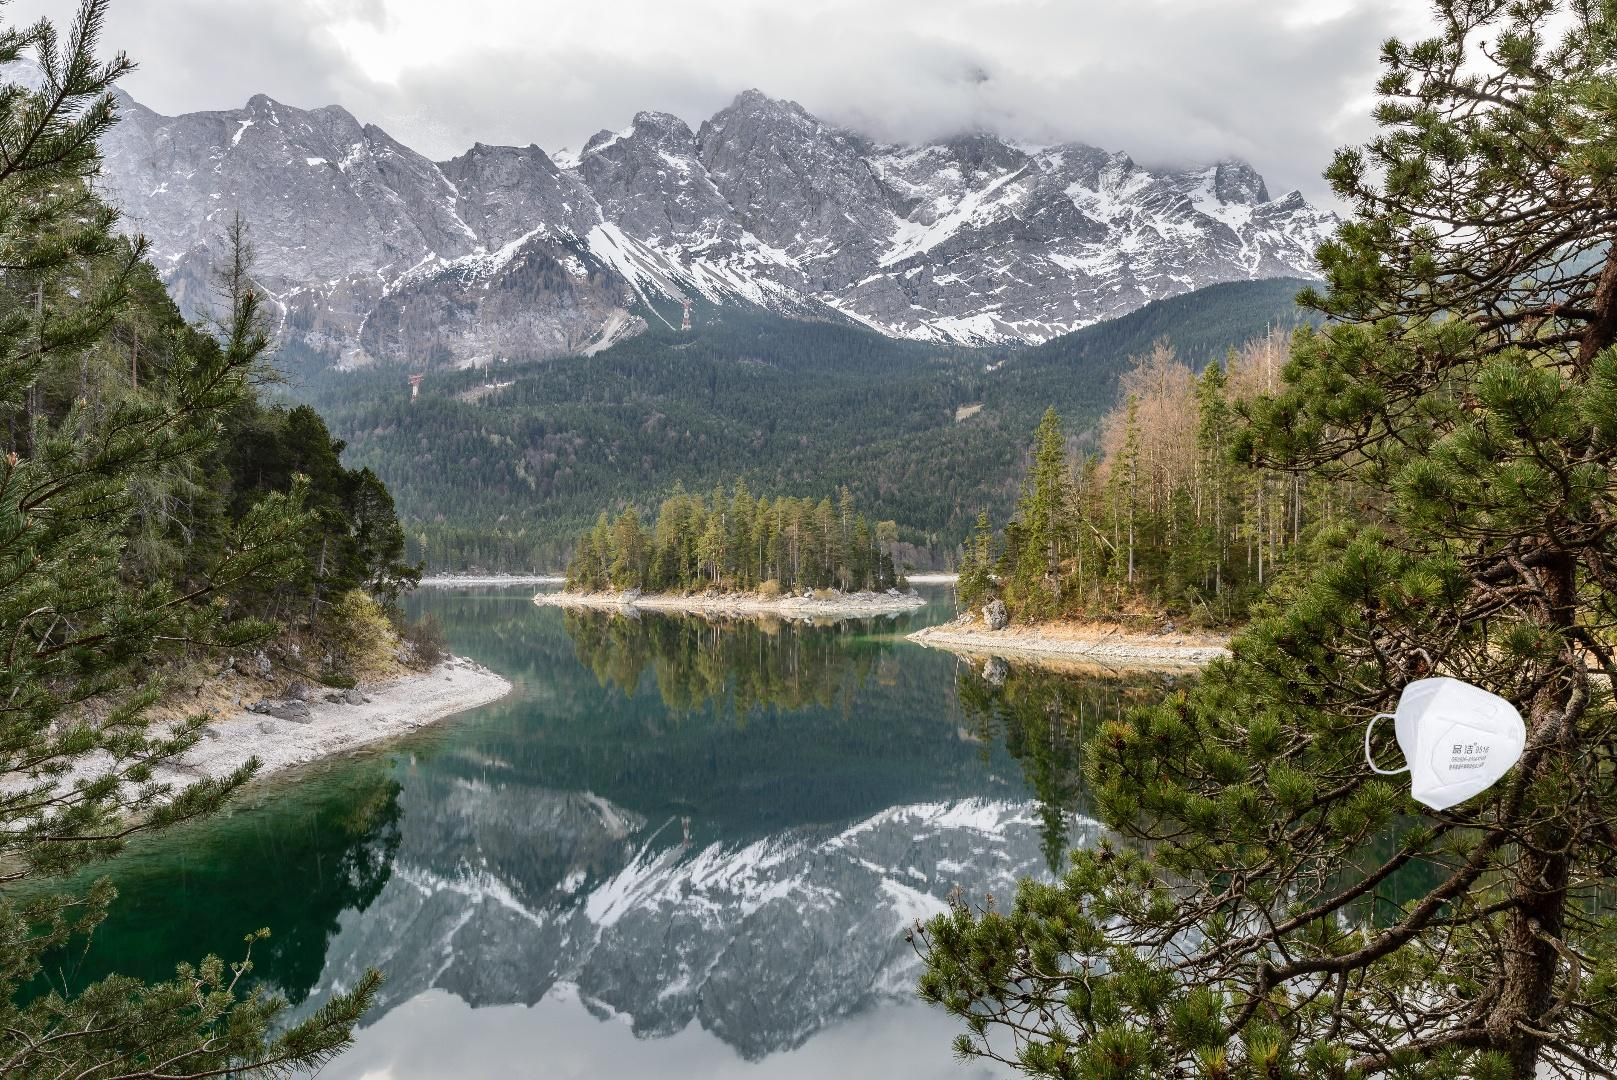trash: (1362, 674, 1565, 814)
